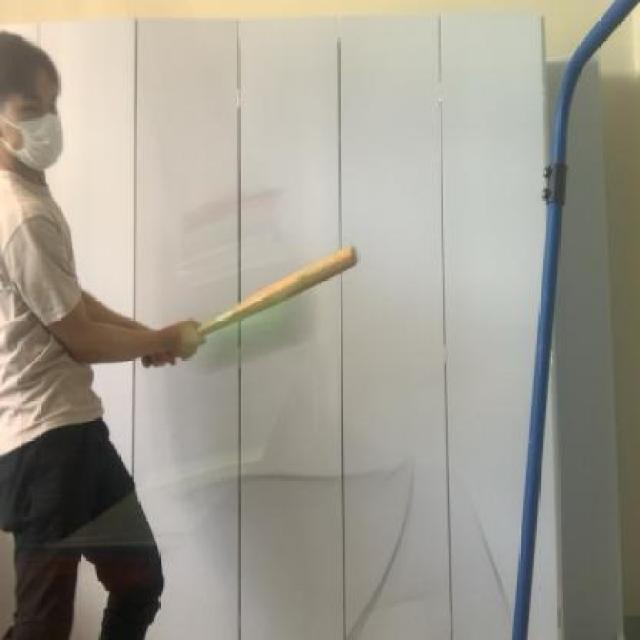baseball: (181, 267, 334, 376)
